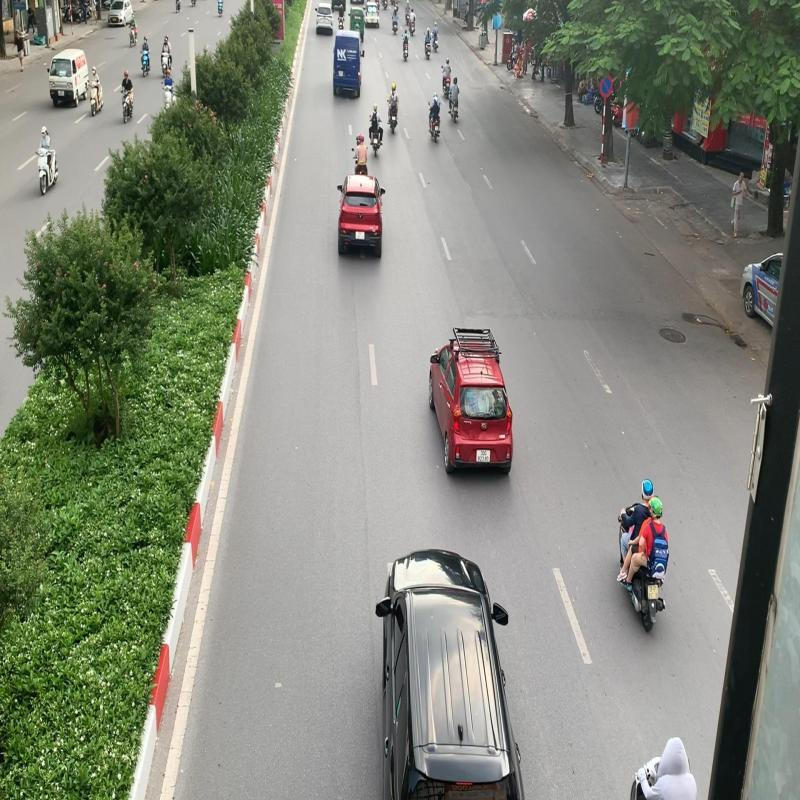helmet: (648, 496, 664, 520), (641, 478, 654, 503)
licenseplate: (647, 584, 659, 600)
motorcyclist: (615, 477, 670, 634)
